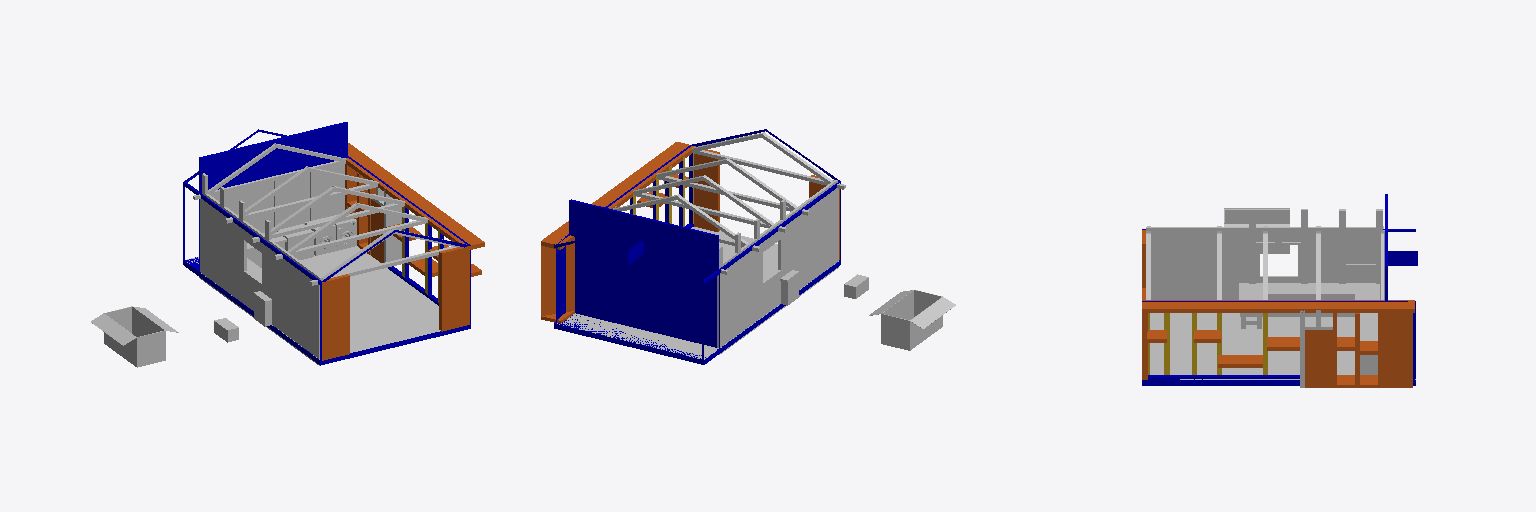
The model's file is GarageOBJ.obj.
3 renders of one model, left to right at view 1: azimuth 30°, elevation 25°; view 2: azimuth 150°, elevation 25°; view 3: azimuth 270°, elevation 25°, orthographic.
Parts seen in each view (by area): view 1: Cube, Cube.043, Cube.013, Cube.004, Cube.005, Cube.006, Плоскость.001, Куб.001, Cube.003, Cube.001, Cube.037, Cube.040 (+5 smaller); view 2: Cube, Cube.043, Плоскость.001, Cube.004, Cube.003, Cube.005, Куб.001, Cube.040, Cube.016, Cube.034, Cube.037; view 3: Cube, Cube.043, Cube.003, Cube.004, Cube.015, Cube.021, Cube.002, Плоскость.001, Cube.001, Cube.022, Cube.008.
Boxes of the visible parts, x1=… form: Cube: x1=183, y1=122, x2=470, y2=365; Cube.043: x1=199, y1=199, x2=319, y2=365; Cube.013: x1=212, y1=164, x2=344, y2=232; Cube.004: x1=346, y1=143, x2=484, y2=249; Cube.005: x1=439, y1=247, x2=469, y2=331; Cube.006: x1=322, y1=274, x2=349, y2=360; Плоскость.001: x1=91, y1=306, x2=178, y2=362; Куб.001: x1=104, y1=331, x2=165, y2=367; Cube.003: x1=345, y1=162, x2=375, y2=254; Cube.001: x1=372, y1=187, x2=401, y2=265; Cube.037: x1=274, y1=220, x2=425, y2=259; Cube.040: x1=310, y1=246, x2=456, y2=285; Cube: x1=554, y1=129, x2=840, y2=364; Cube.043: x1=717, y1=188, x2=838, y2=354; Плоскость.001: x1=869, y1=290, x2=955, y2=349; Cube.004: x1=541, y1=142, x2=695, y2=249; Cube.003: x1=541, y1=239, x2=574, y2=323; Cube.005: x1=694, y1=149, x2=719, y2=231; Куб.001: x1=881, y1=315, x2=942, y2=350; Cube.040: x1=692, y1=150, x2=845, y2=189; Cube.016: x1=763, y1=263, x2=798, y2=305; Cube.034: x1=634, y1=193, x2=786, y2=232; Cube.037: x1=657, y1=176, x2=809, y2=215; Cube: x1=1142, y1=194, x2=1417, y2=385; Cube.043: x1=1151, y1=230, x2=1384, y2=328; Cube.003: x1=1333, y1=310, x2=1412, y2=387; Cube.004: x1=1142, y1=300, x2=1414, y2=312; Cube.015: x1=1261, y1=283, x2=1379, y2=317; Cube.021: x1=1146, y1=227, x2=1378, y2=234; Cube.002: x1=1305, y1=330, x2=1332, y2=387; Плоскость.001: x1=1224, y1=208, x2=1289, y2=253; Cube.001: x1=1300, y1=310, x2=1332, y2=387; Cube.022: x1=1151, y1=276, x2=1375, y2=279; Cube.008: x1=1218, y1=355, x2=1262, y2=367.
Bounding box in the file's own units: 22.25 × 7.91 × 16.57.